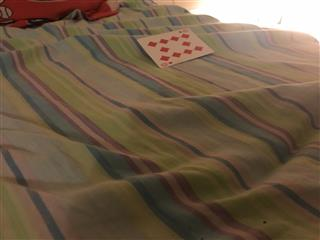TenOfDiamonds: (136, 27, 214, 68)
